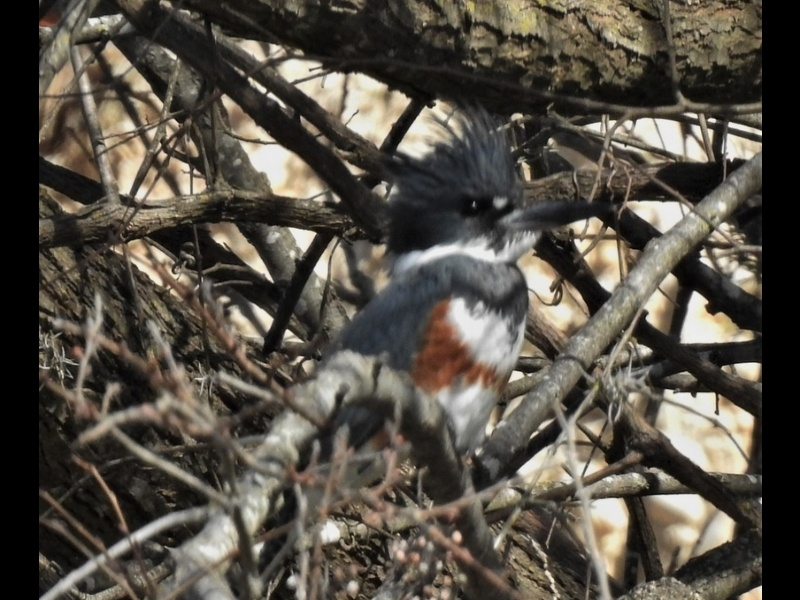kingfisher: (274, 102, 606, 485)
